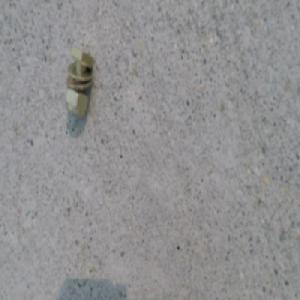BoltNutSet: (67, 51, 96, 120)
